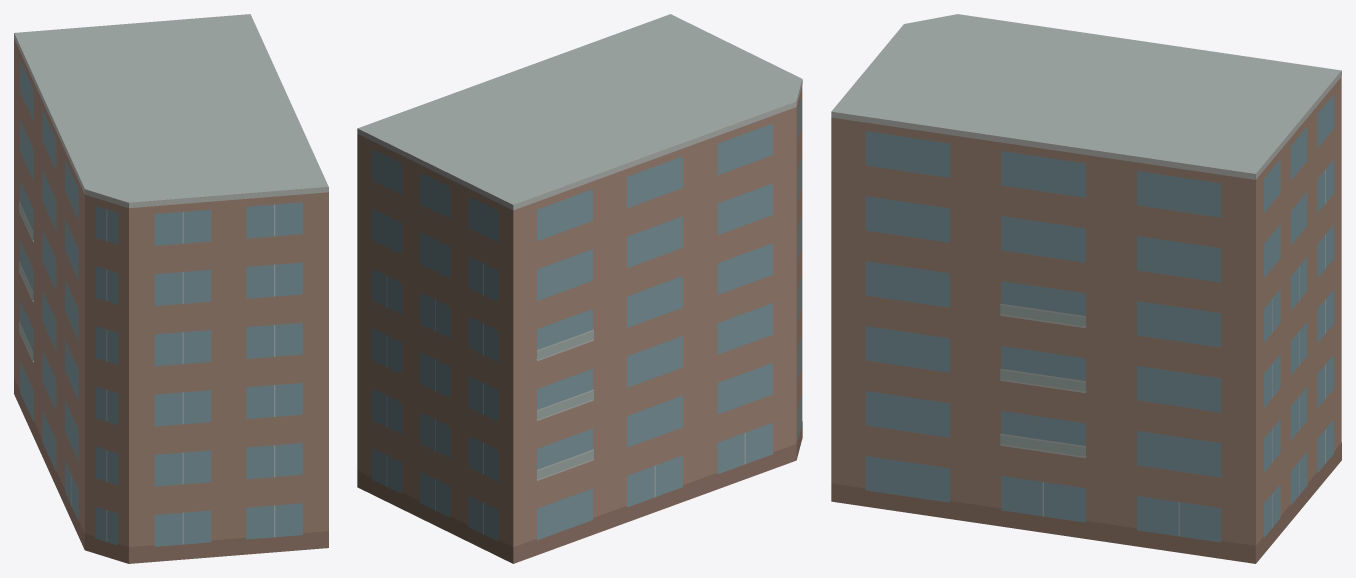
The model's file is survey-upis-32553853.glb.
3 views of the same model, side by side, from view 1: azimuth 30°, elevation 25°; view 2: azimuth 150°, elevation 25°; view 3: azimuth 270°, elevation 25° (orthographic). The views are drawn at different scales.
Parts seen in each view (by area): view 1: survey-upis-32553853.tmp; view 2: survey-upis-32553853.tmp; view 3: survey-upis-32553853.tmp.
Part boxes in pixels (<box>): survey-upis-32553853.tmp: <box>14,14,328,563</box>; survey-upis-32553853.tmp: <box>357,14,802,563</box>; survey-upis-32553853.tmp: <box>831,14,1341,563</box>.
Bounding box in the file's own units: 14.27 × 16.2 × 19.24.
